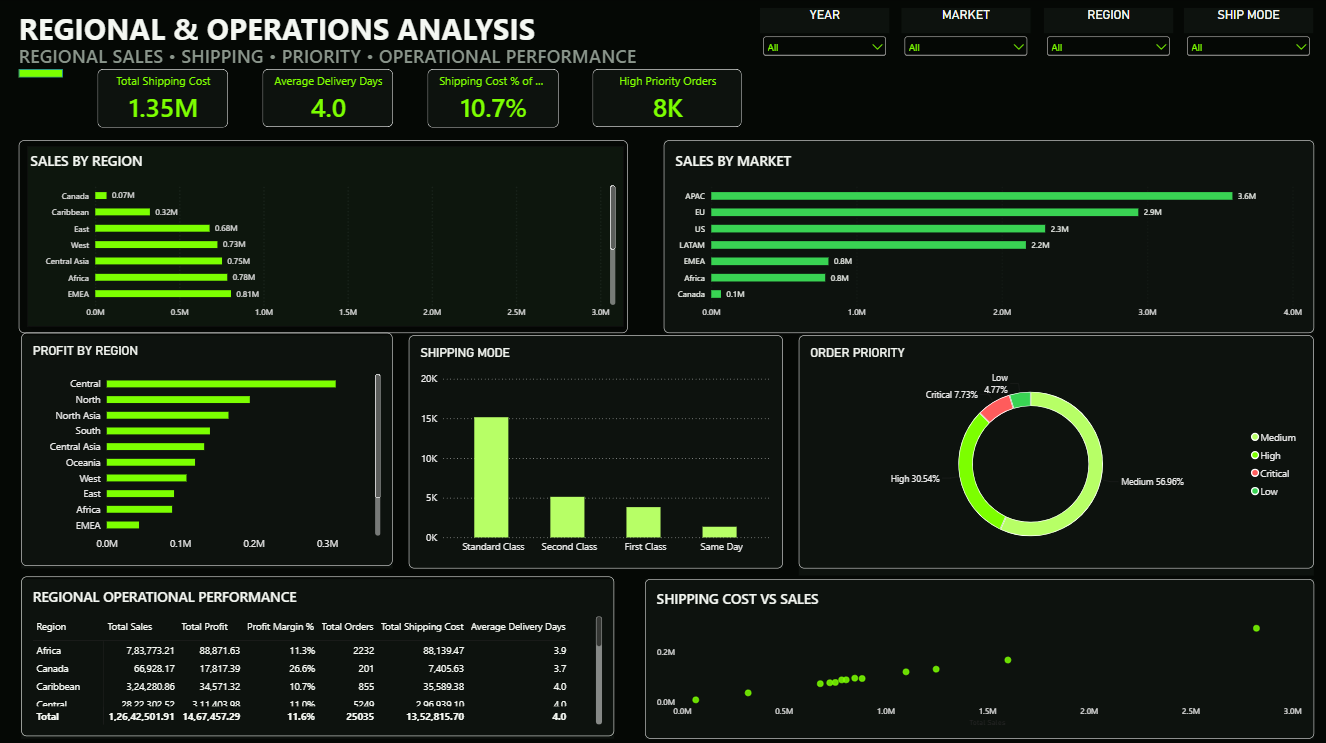

Layout of this report page (visuals, bound fields, positions):
{"tool":"powerbi","page":{"name":"05 Regional & Operations","canvas":[1920,1080],"ordinal":4},"visuals":[{"type":"shape","box":[933.3,839.6,968.8,231.2],"z":0},{"type":"shape","box":[1156.2,487.5,745.8,347.9],"z":1000},{"type":"shape","box":[591.7,487.5,541.7,337.5],"z":2000},{"type":"textbox","box":[26.8,63.8,1130,49.4],"z":4000},{"type":"shape","box":[26.8,100.9,63.8,12.3],"z":5000},{"type":"slicer","title":"YEAR","fields":{"Values":["DateTable.Year"]},"box":[1100,12.5,187.5,145.8],"z":6000},{"type":"slicer","title":"MARKET","fields":{"Values":["Orders.Market"]},"box":[1304.2,12.5,187.5,145.8],"z":7000},{"type":"cardVisual","fields":{"Data":["DateTable.Total Shipping Cost"]},"box":[140.3,100.9,189.6,85.4],"z":8000},{"type":"cardVisual","fields":{"Data":["DateTable.Average Delivery Days"]},"box":[379.6,100.9,189.4,84.4],"z":9000},{"type":"cardVisual","fields":{"Data":["DateTable.Shipping Cost % of Sales"]},"box":[618.6,100.9,190,85],"z":10000},{"type":"shape","box":[960.4,204.2,941.7,279.2],"z":12000},{"type":"clusteredColumnChart","title":"SHIPPING MODE","fields":{"Category":["Orders.Ship Mode"],"Y":["_Measures.Total Orders"]},"box":[591.7,487.5,541.7,337.5],"z":13000},{"type":"clusteredBarChart","title":"SALES BY MARKET","fields":{"Y":["_Measures.Total Sales"],"Category":["Orders.Market"]},"box":[960.4,204.2,941.7,279.2],"z":14000},{"type":"shape","box":[31.2,487.5,537.5,337.5],"z":16000},{"type":"clusteredBarChart","title":"PROFIT BY REGION","fields":{"Y":["_Measures.Total Profit"],"Category":["Orders.Region"]},"box":[31.2,483.3,537.5,337.5],"z":17000},{"type":"cardVisual","fields":{"Data":["DateTable.High Priority Orders"]},"box":[858.3,100.9,216.1,84.4],"z":18000},{"type":"slicer","title":"REGION","fields":{"Values":["Orders.Region"]},"box":[1510.4,12.5,187.5,145.8],"z":19000},{"type":"slicer","title":"SHIP MODE","fields":{"Values":["Orders.Ship Mode"]},"box":[1714.6,12.5,187.5,145.8],"z":20000},{"type":"donutChart","title":"ORDER PRIORITY","fields":{"Category":["Orders.Order Priority"],"Y":["_Measures.Total Orders"]},"box":[1156.2,487.5,745.8,337.5],"z":21000},{"type":"shape","box":[31.2,204.2,881.2,279.2],"z":23000},{"type":"clusteredBarChart","title":"SALES BY REGION","fields":{"Y":["_Measures.Total Sales"],"Category":["Orders.Region"]},"box":[27.1,204.2,881.2,279.2],"z":24000},{"type":"scatterChart","title":"SHIPPING COST VS SALES","fields":{"X":["_Measures.Total Sales"],"Y":["DateTable.Total Shipping Cost"],"Category":["Orders.Region"]},"box":[933.3,839.6,968.8,231.2],"z":25000},{"type":"shape","box":[31.2,839.6,858.3,231.2],"z":26000},{"type":"pivotTable","title":"REGIONAL OPERATIONAL PERFORMANCE","fields":{"Values":["_Measures.Total Sales","_Measures.Total Profit","_Measures.Profit Margin %","_Measures.Total Orders","DateTable.Total Shipping Cost","DateTable.Average Delivery Days"],"Rows":["Orders.Region"]},"box":[31.2,835.4,858.3,231.2],"z":27000},{"type":"textbox","box":[27.1,12.5,752.1,87.5],"z":28000}]}

Visuals, with their boxes in screenshot pixels (x1, y1, x2, y2), scaled from the page's 1920x1080 canvas onto the 1326x743 screenshot:
shape: <region>645, 578, 1314, 737</region>
shape: <region>799, 335, 1314, 575</region>
shape: <region>409, 335, 783, 568</region>
textbox: <region>19, 44, 799, 78</region>
shape: <region>19, 69, 63, 78</region>
"YEAR" slicer: <region>760, 9, 889, 109</region>
"MARKET" slicer: <region>901, 9, 1030, 109</region>
cardVisual - DateTable.Total Shipping Cost: <region>97, 69, 228, 128</region>
cardVisual - DateTable.Average Delivery Days: <region>262, 69, 393, 127</region>
cardVisual - DateTable.Shipping Cost % of Sales: <region>427, 69, 558, 128</region>
shape: <region>663, 140, 1314, 333</region>
"SHIPPING MODE" clusteredColumnChart: <region>409, 335, 783, 568</region>
"SALES BY MARKET" clusteredBarChart: <region>663, 140, 1314, 333</region>
shape: <region>22, 335, 393, 568</region>
"PROFIT BY REGION" clusteredBarChart: <region>22, 332, 393, 565</region>
cardVisual - DateTable.High Priority Orders: <region>593, 69, 742, 127</region>
"REGION" slicer: <region>1043, 9, 1173, 109</region>
"SHIP MODE" slicer: <region>1184, 9, 1314, 109</region>
"ORDER PRIORITY" donutChart: <region>799, 335, 1314, 568</region>
shape: <region>22, 140, 630, 333</region>
"SALES BY REGION" clusteredBarChart: <region>19, 140, 627, 333</region>
"SHIPPING COST VS SALES" scatterChart: <region>645, 578, 1314, 737</region>
shape: <region>22, 578, 614, 737</region>
"REGIONAL OPERATIONAL PERFORMANCE" pivotTable: <region>22, 575, 614, 734</region>
textbox: <region>19, 9, 538, 69</region>
